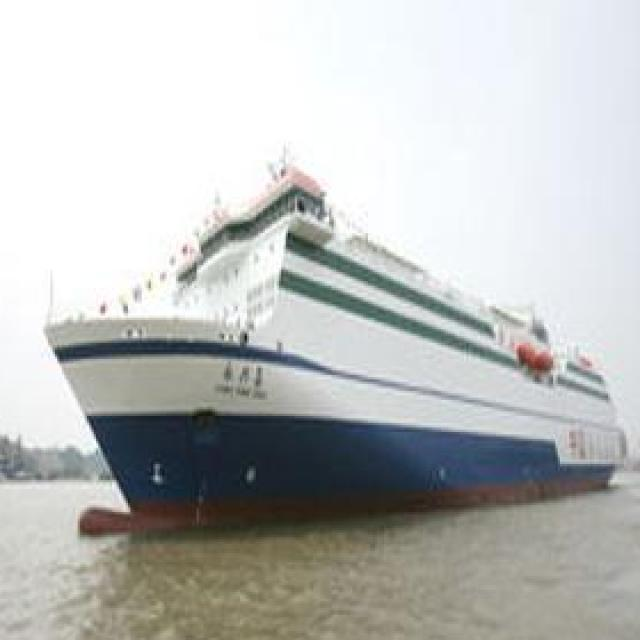passenger ship: (39, 162, 621, 514)
